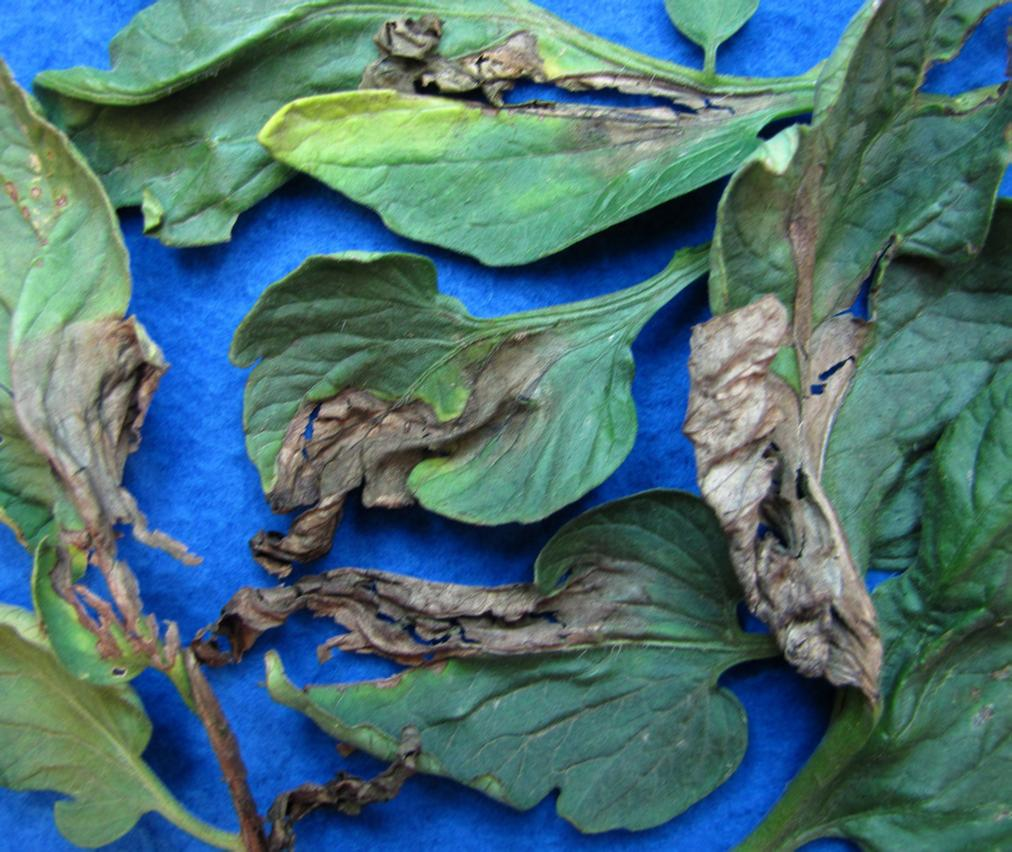Tomato leaf late blight: (680, 0, 1012, 622), (222, 482, 820, 826), (285, 0, 824, 260), (217, 245, 688, 525), (0, 3, 193, 650)
